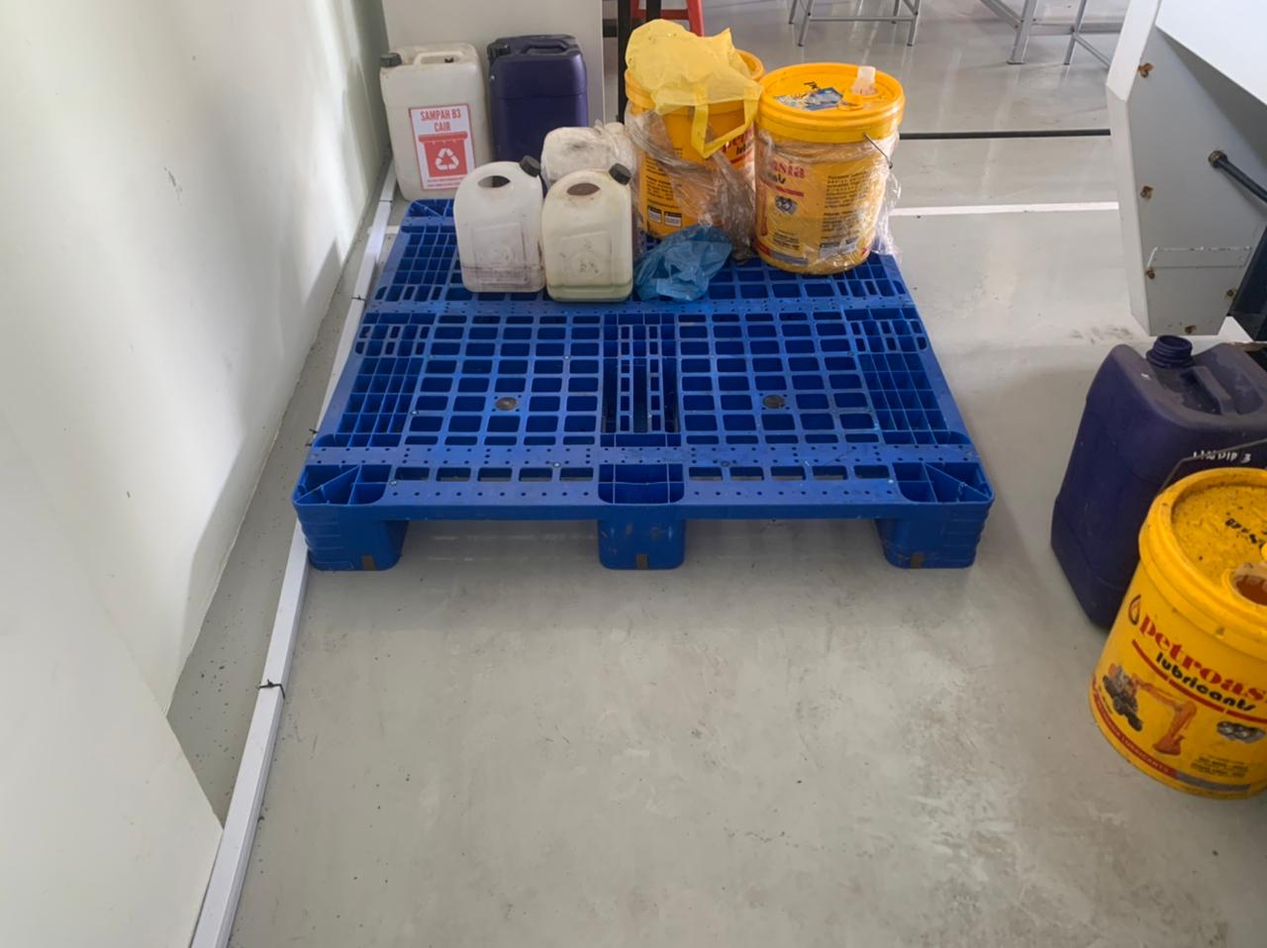block: (294, 503, 392, 574), (895, 500, 989, 572), (599, 504, 684, 571)
front: (300, 503, 995, 571)
hole pallet: (384, 517, 603, 566), (685, 521, 897, 566)
